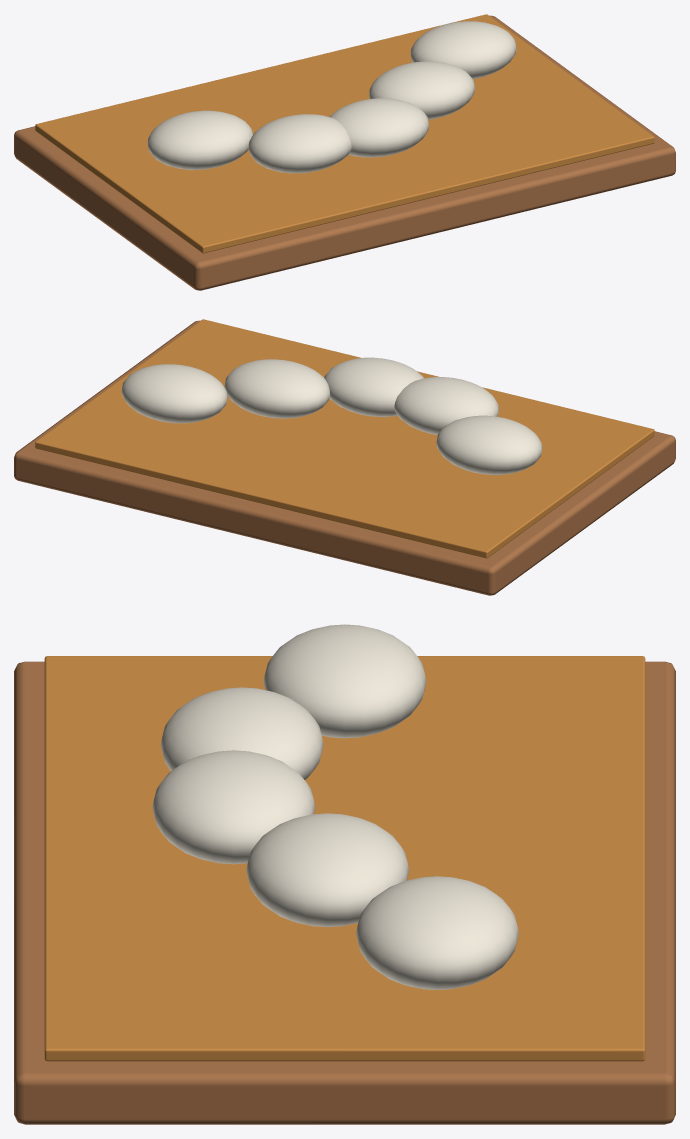
The model's file is wp-jardin-de-galets.glb.
The picture shows the model from 3 angles, top to bottom: view 1: azimuth 30°, elevation 25°; view 2: azimuth 150°, elevation 25°; view 3: azimuth 270°, elevation 25°; orthographic projection. The views are drawn at different scales.
Visible parts, largest first — view 1: wp-jardin-de-galets; view 2: wp-jardin-de-galets; view 3: wp-jardin-de-galets.
Boxes of the visible parts, x1,y1,x2,y2 form: wp-jardin-de-galets: (14, 14, 675, 290); wp-jardin-de-galets: (14, 319, 675, 595); wp-jardin-de-galets: (14, 624, 675, 1124).
Bounding box in the file's own units: 0.6 × 0.1 × 0.4.
